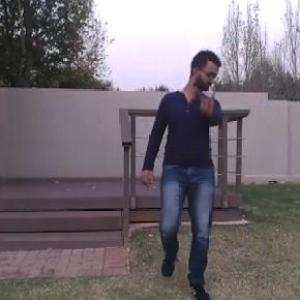takeoff-hand: (196, 81, 224, 120)
